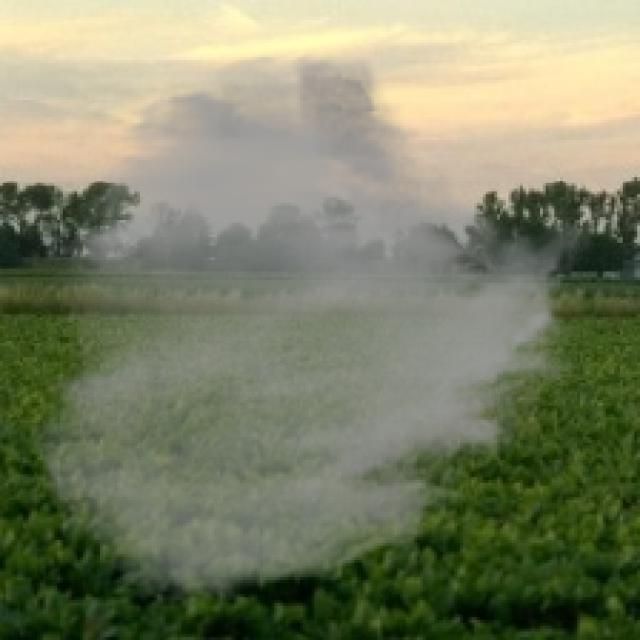Smoke: (28, 49, 594, 608)
